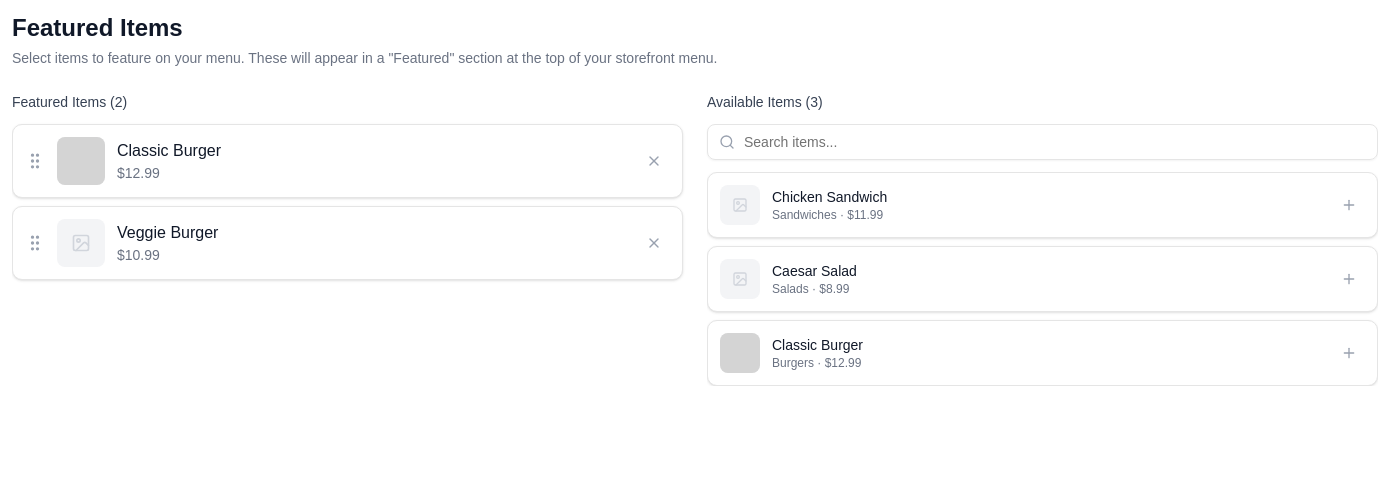
it: FeaturedItemsClient › Remove Item Functionality › should optimistically move item from selected to available
Click the 2nd button: (654, 161) [638, 145, 670, 177]
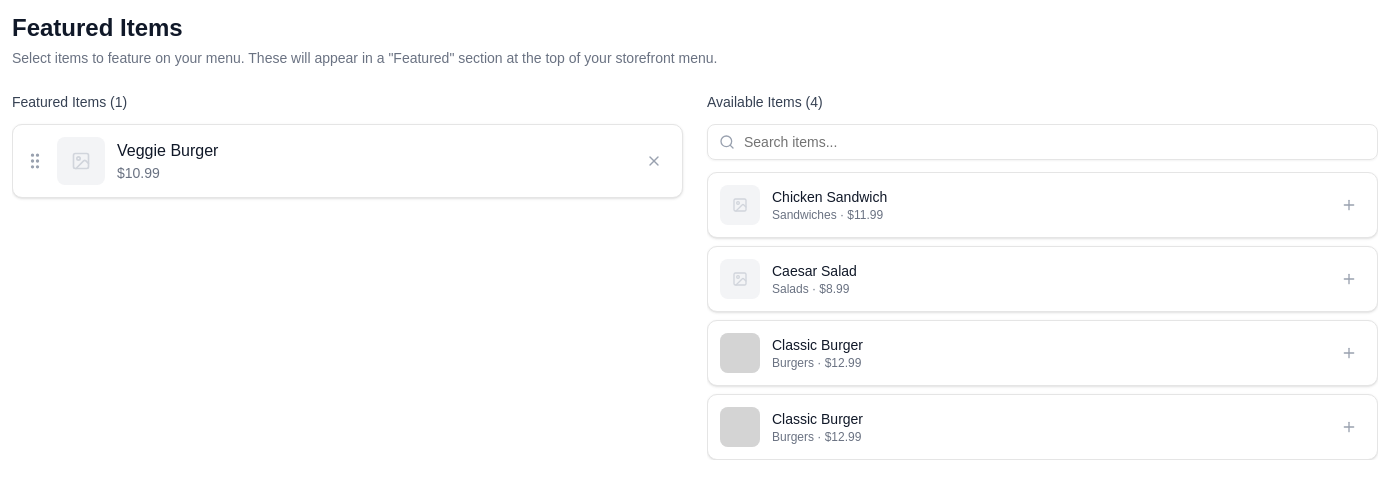
Expected: the heading "Featured Items (1)" is shown, [12, 94, 127, 110]
Expected: the heading "Available Items (4)" is shown, [707, 94, 823, 110]
